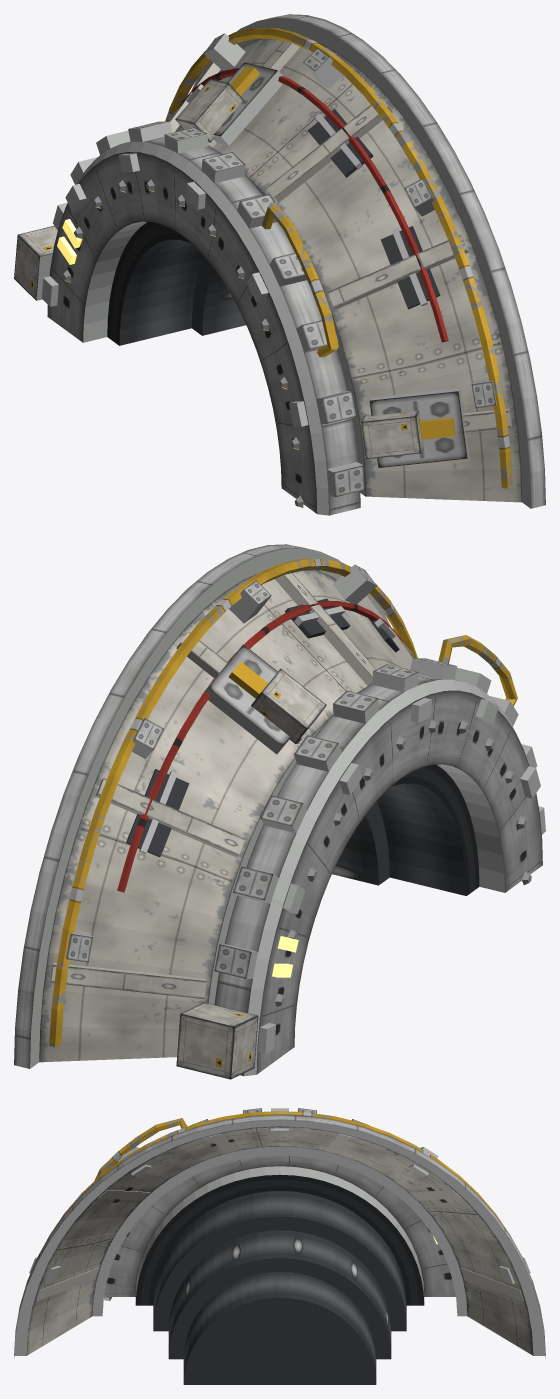
Rendered from hull_enddock.fbx.
3 renders of one model, top to bottom at view 1: azimuth 30°, elevation 25°; view 2: azimuth 150°, elevation 25°; view 3: azimuth 270°, elevation 25°, orthographic. The views are drawn at different scales.
Visible parts, largest first — view 1: hull_enddock; view 2: hull_enddock; view 3: hull_enddock.
Part boxes in pixels (x1,y1,x2,y2): hull_enddock: (14, 14, 545, 515); hull_enddock: (14, 544, 545, 1079); hull_enddock: (14, 1108, 545, 1384).
Bounding box in the file's own units: 0.843 × 1.07 × 2.1.
Materials: 1 (1 with a texture image).
